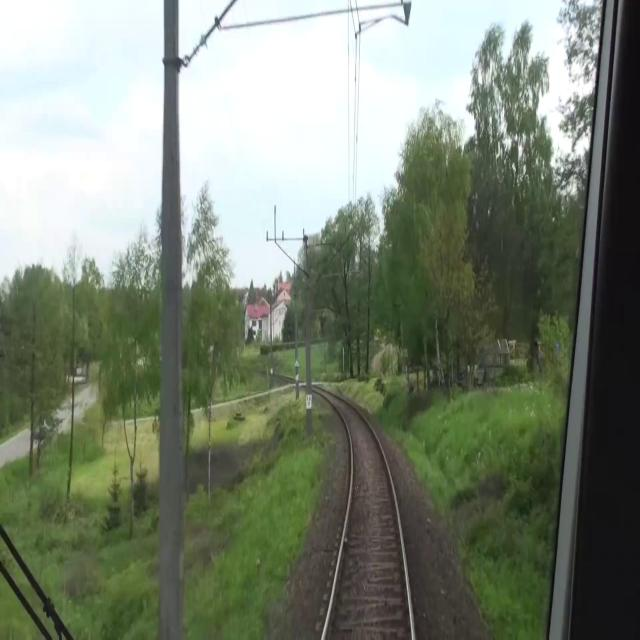rail-track: (326, 398, 410, 639)
